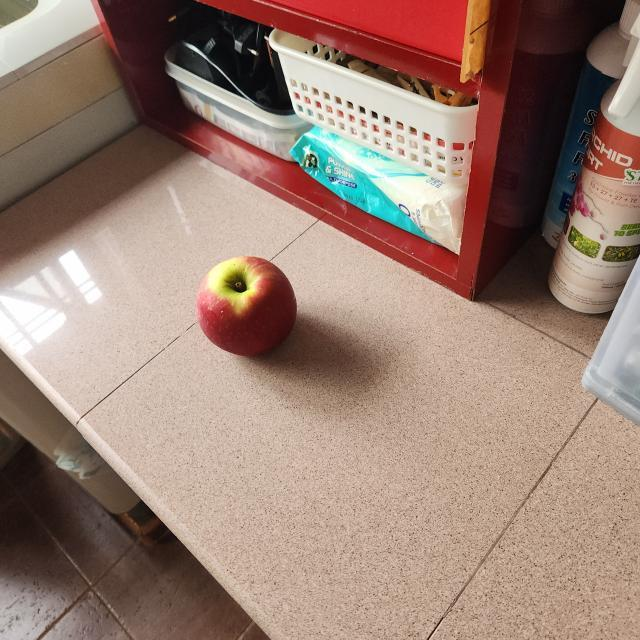apple: (190, 244, 310, 372)
